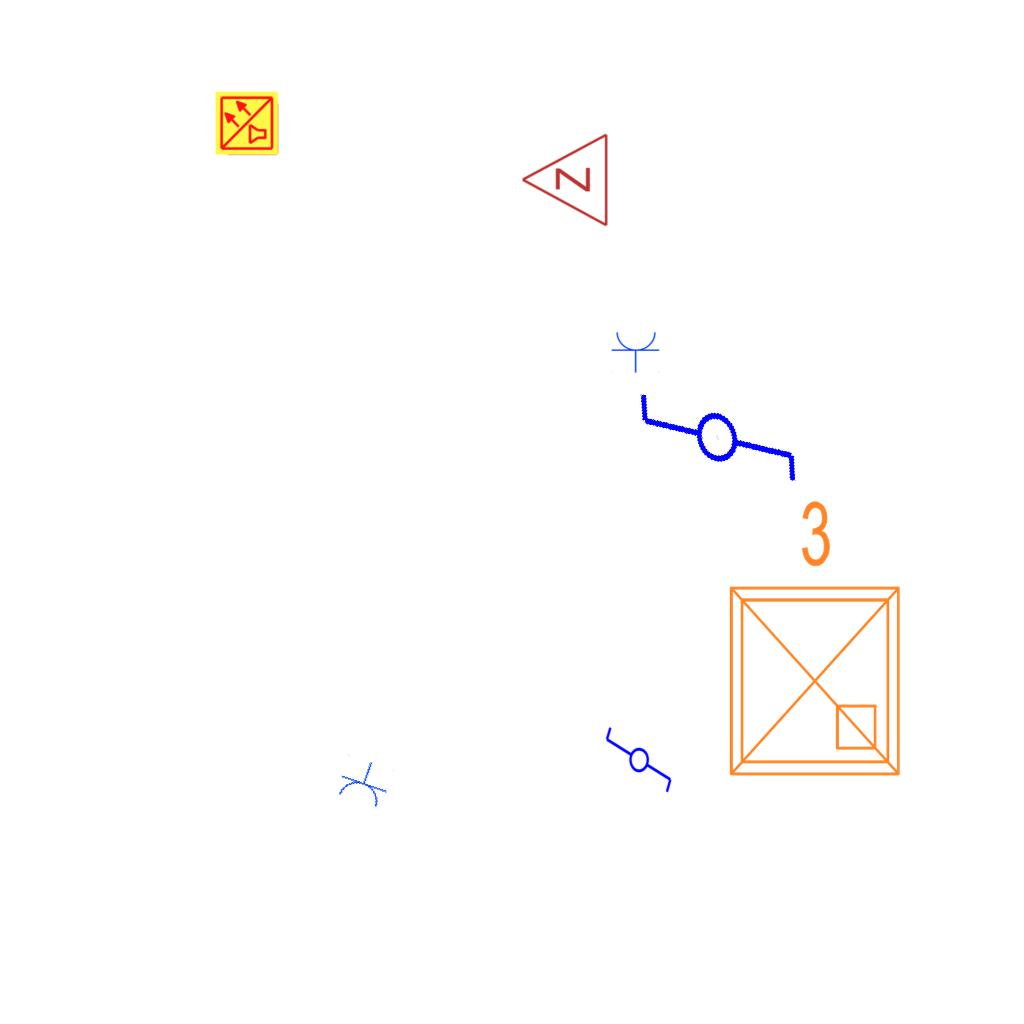Einbaudownlights_LED_Konferenzraeume: (707, 490, 915, 790)
OKW_Multisensormelder_(Kombination_optischer_Rauch-Kahlenmonoxid_Waerme-Melder): (214, 90, 280, 156)
Schukosteckdose_einfach: (333, 754, 395, 811), (611, 330, 661, 373)
Wechselschalter: (622, 331, 811, 527), (602, 725, 674, 803)
Zimmersignalleuchte: (515, 132, 615, 230)
